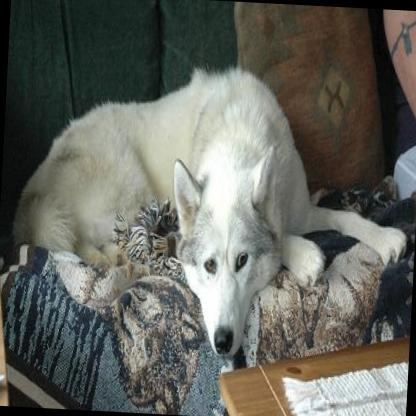Siberian_husky: (5, 52, 413, 362)
